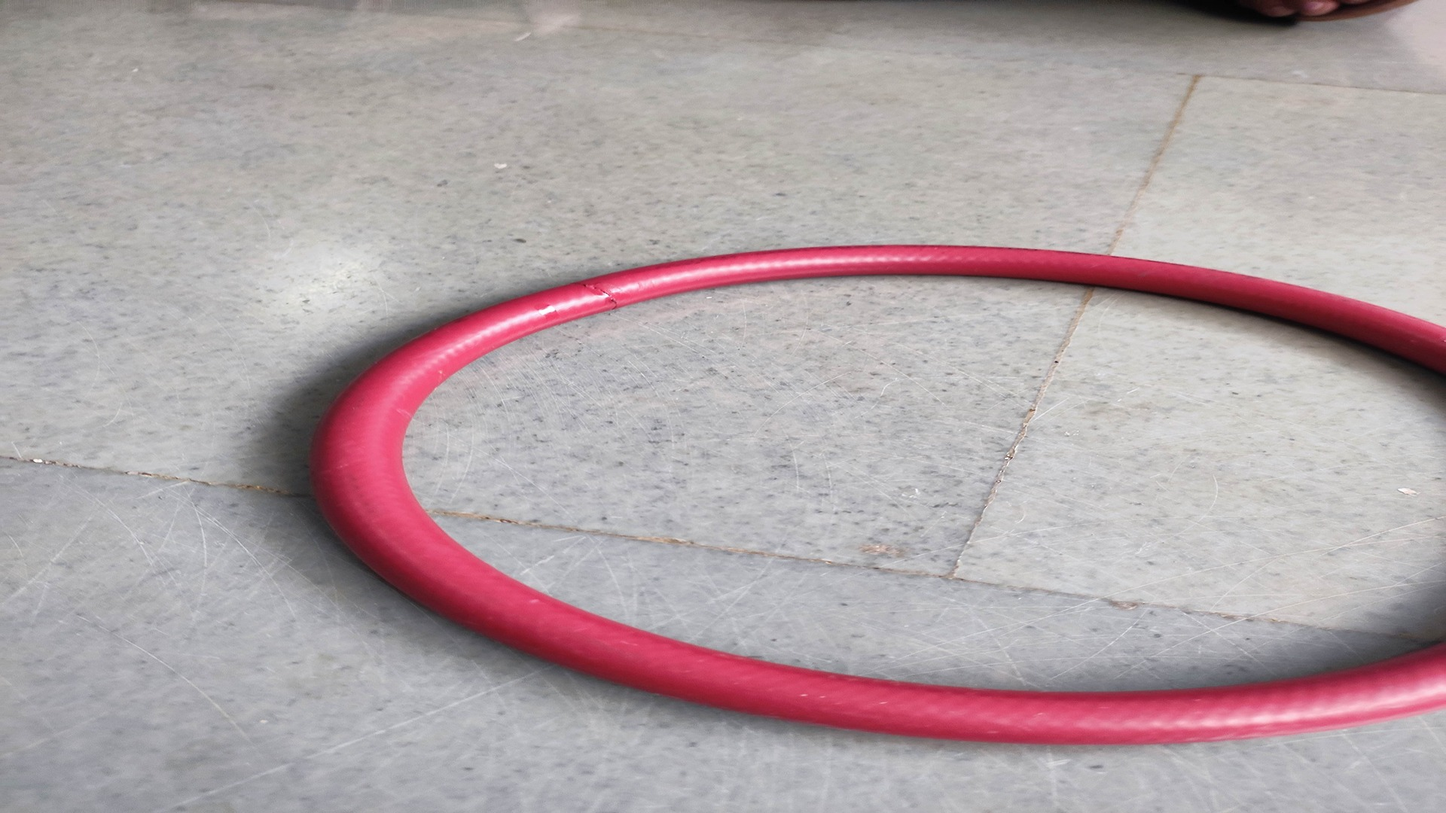Red ring: (318, 243, 1445, 744)
